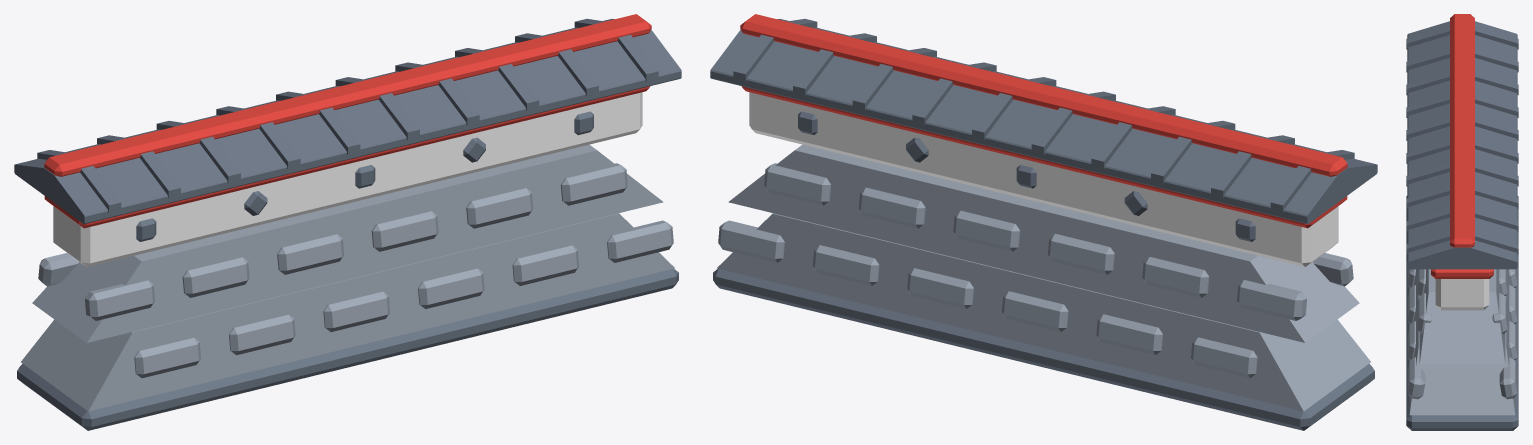
File: Prop_samurai_castle_StoneWall.glb
The picture shows the model from 3 angles, left to right: view 1: azimuth 30°, elevation 25°; view 2: azimuth 150°, elevation 25°; view 3: azimuth 270°, elevation 25°; orthographic projection. The views are drawn at different scales.
Visible parts, largest first — view 1: StoneLight_9AA4B2, StoneDark_6B7686, PlasterWhite_FFFFFF, ZoneRed_E0453C; view 2: StoneLight_9AA4B2, StoneDark_6B7686, PlasterWhite_FFFFFF, ZoneRed_E0453C; view 3: StoneDark_6B7686, StoneLight_9AA4B2, ZoneRed_E0453C, PlasterWhite_FFFFFF.
Boxes of the visible parts, bbox=[...] form: StoneLight_9AA4B2: bbox=[21, 144, 674, 411]; StoneDark_6B7686: bbox=[14, 18, 681, 430]; PlasterWhite_FFFFFF: bbox=[53, 92, 642, 266]; ZoneRed_E0453C: bbox=[44, 14, 651, 228]; StoneLight_9AA4B2: bbox=[717, 144, 1370, 411]; StoneDark_6B7686: bbox=[710, 18, 1377, 430]; PlasterWhite_FFFFFF: bbox=[749, 92, 1338, 266]; ZoneRed_E0453C: bbox=[740, 14, 1347, 228]; StoneDark_6B7686: bbox=[1406, 21, 1518, 430]; StoneLight_9AA4B2: bbox=[1407, 268, 1517, 415]; ZoneRed_E0453C: bbox=[1431, 14, 1493, 278]; PlasterWhite_FFFFFF: bbox=[1435, 279, 1489, 310].
Bounding box in the file's own units: 24 × 9.48 × 5.
